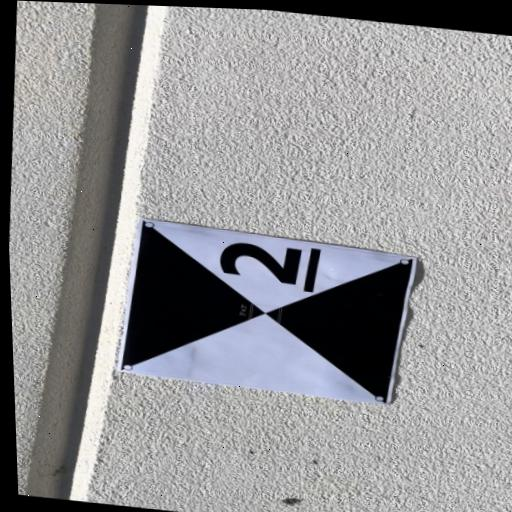target2: (121, 218, 414, 405)
